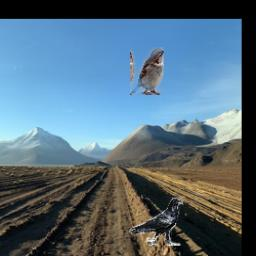Crow: (130, 199, 184, 247)
Sparrow: (131, 48, 165, 96)
